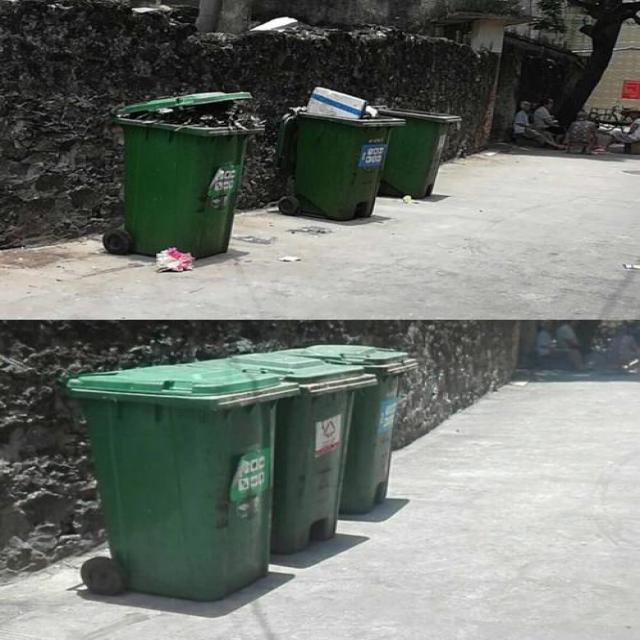garbage: (152, 242, 198, 272)
garbage_bin: (63, 363, 297, 600), (233, 354, 381, 554), (307, 343, 419, 513), (379, 106, 458, 197)
overflow: (109, 88, 258, 254), (278, 87, 403, 220)
